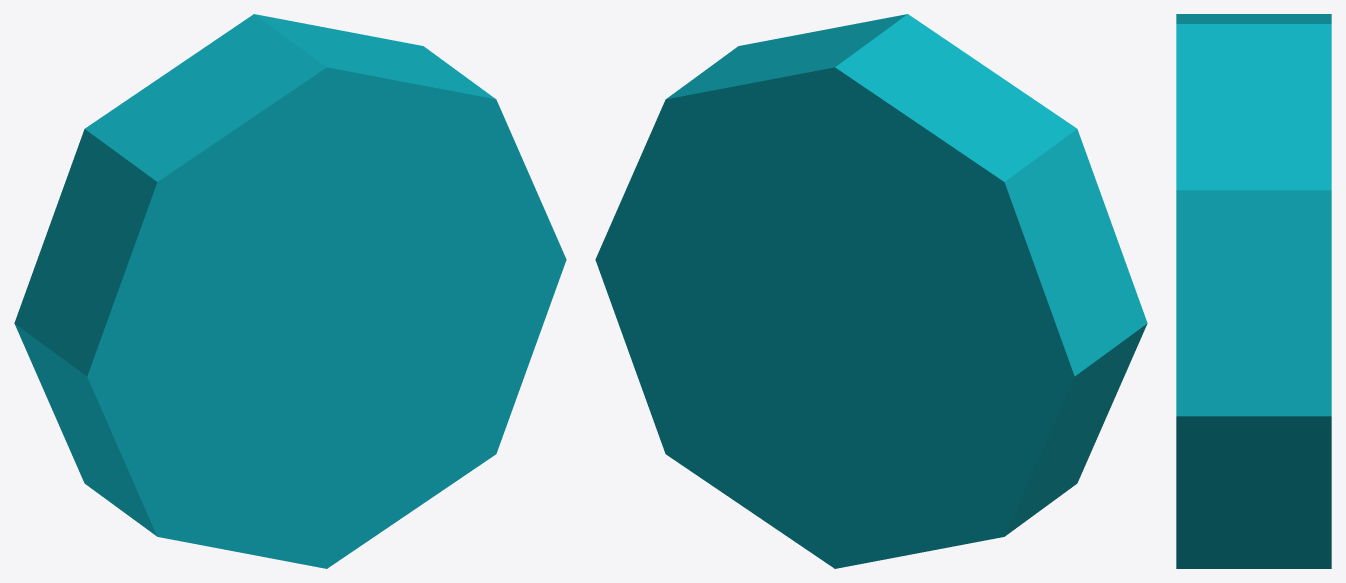
File: Boton07.fbx
3 views of the same model, side by side, from view 1: azimuth 30°, elevation 25°; view 2: azimuth 150°, elevation 25°; view 3: azimuth 270°, elevation 25° (orthographic). The views are drawn at different scales.
Parts seen in each view (by area): view 1: Boton07; view 2: Boton07; view 3: Boton07.
Part boxes in pixels (x1,y1,x2,y2): Boton07: (14,14,566,568); Boton07: (595,14,1147,568); Boton07: (1176,14,1331,568).
Size of the model in its own units: 10 by 10 by 2.63.
